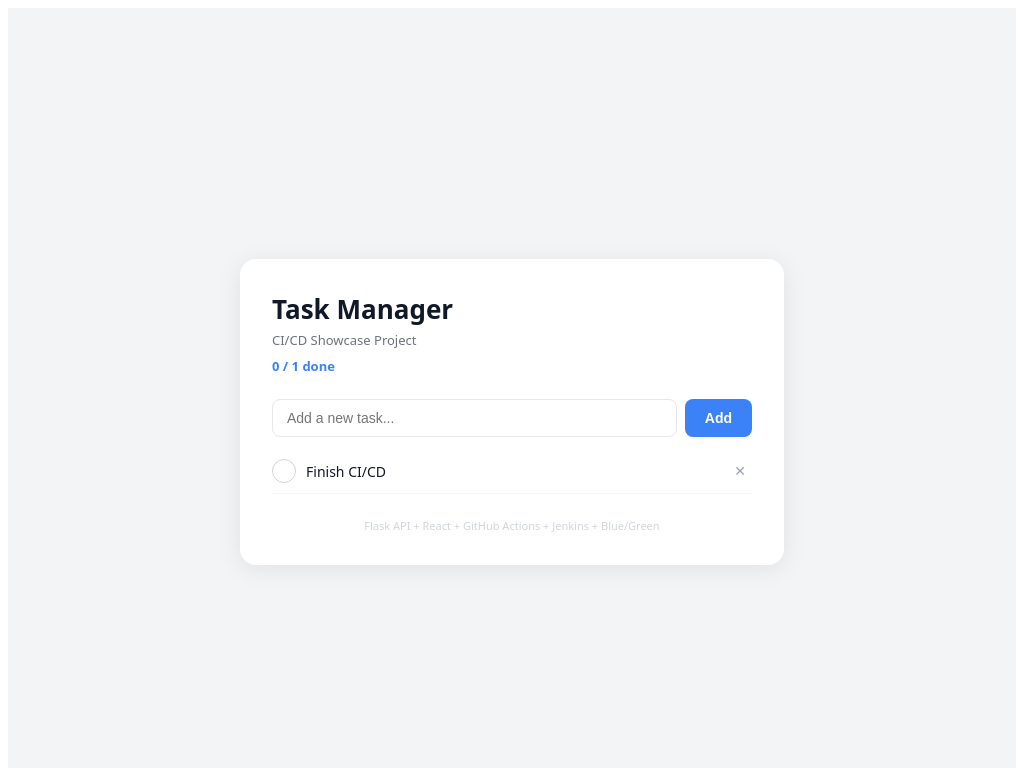
Marking tasks done › toggles task to done when check button clicked
Expected: the text "Finish CI/CD" is shown, x1=306 y1=462 x2=386 y2=480
Click the button titled "Mark done". click: (284, 471)
box: x1=272 y1=459 x2=296 y2=483
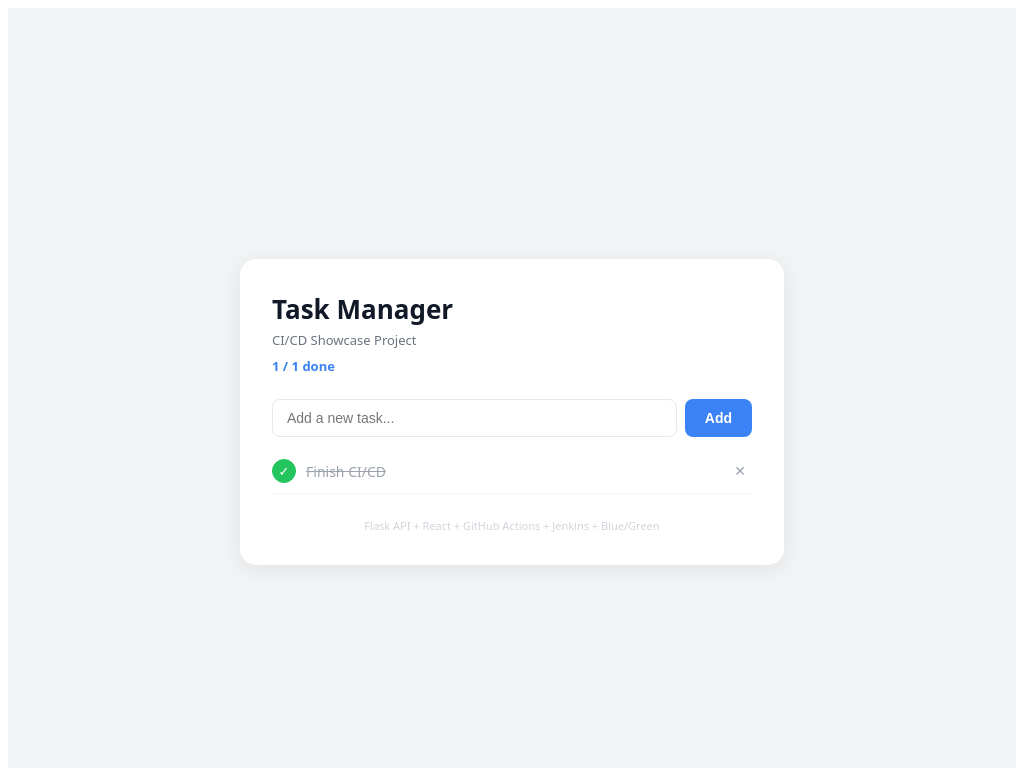
Result: the button titled "Mark undone" is shown at x1=272 y1=459 x2=296 y2=483
